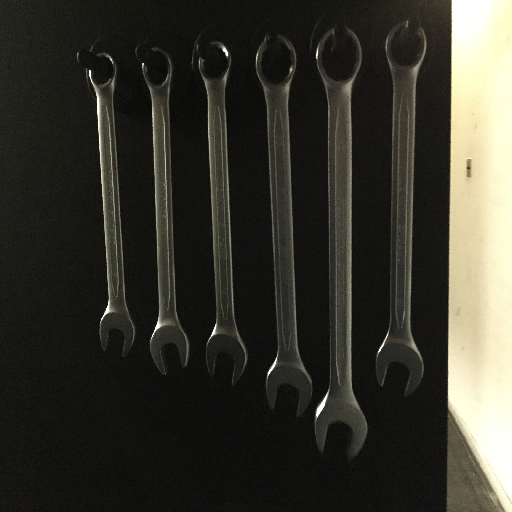bottom: (311, 396, 370, 464), (371, 336, 427, 399), (261, 360, 315, 421), (202, 326, 250, 389), (146, 321, 190, 377), (94, 307, 138, 360)
top: (313, 23, 363, 89), (252, 30, 300, 93), (379, 18, 429, 77), (135, 45, 179, 93), (195, 40, 235, 86), (83, 51, 121, 94)
